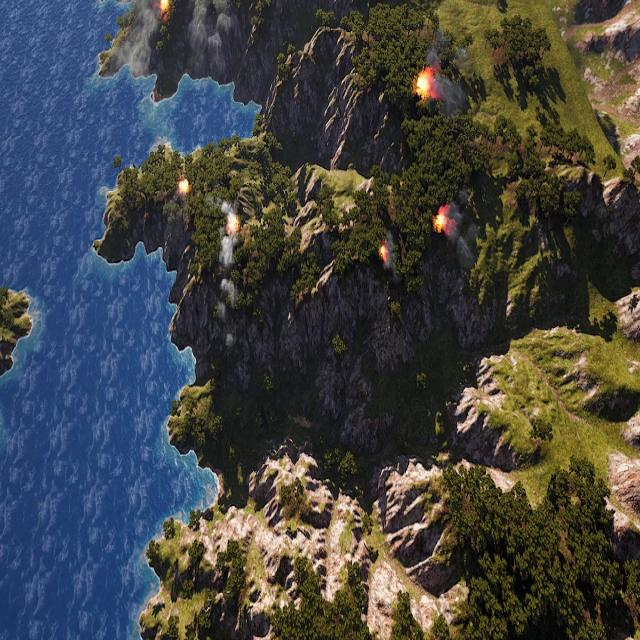fire: (413, 67, 433, 99), (432, 208, 448, 232), (178, 179, 190, 192), (159, 0, 170, 14), (381, 245, 388, 262)
smoke: (117, 0, 170, 76), (426, 31, 470, 121), (210, 195, 240, 322), (440, 188, 480, 263), (384, 234, 398, 276)
